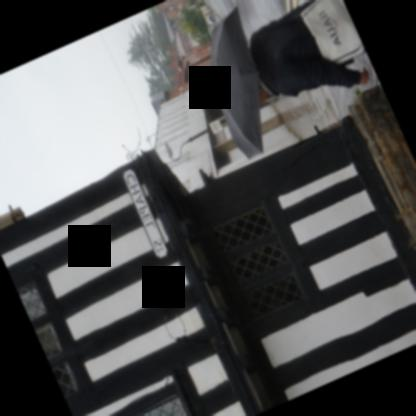handbag: (299, 0, 365, 63)
